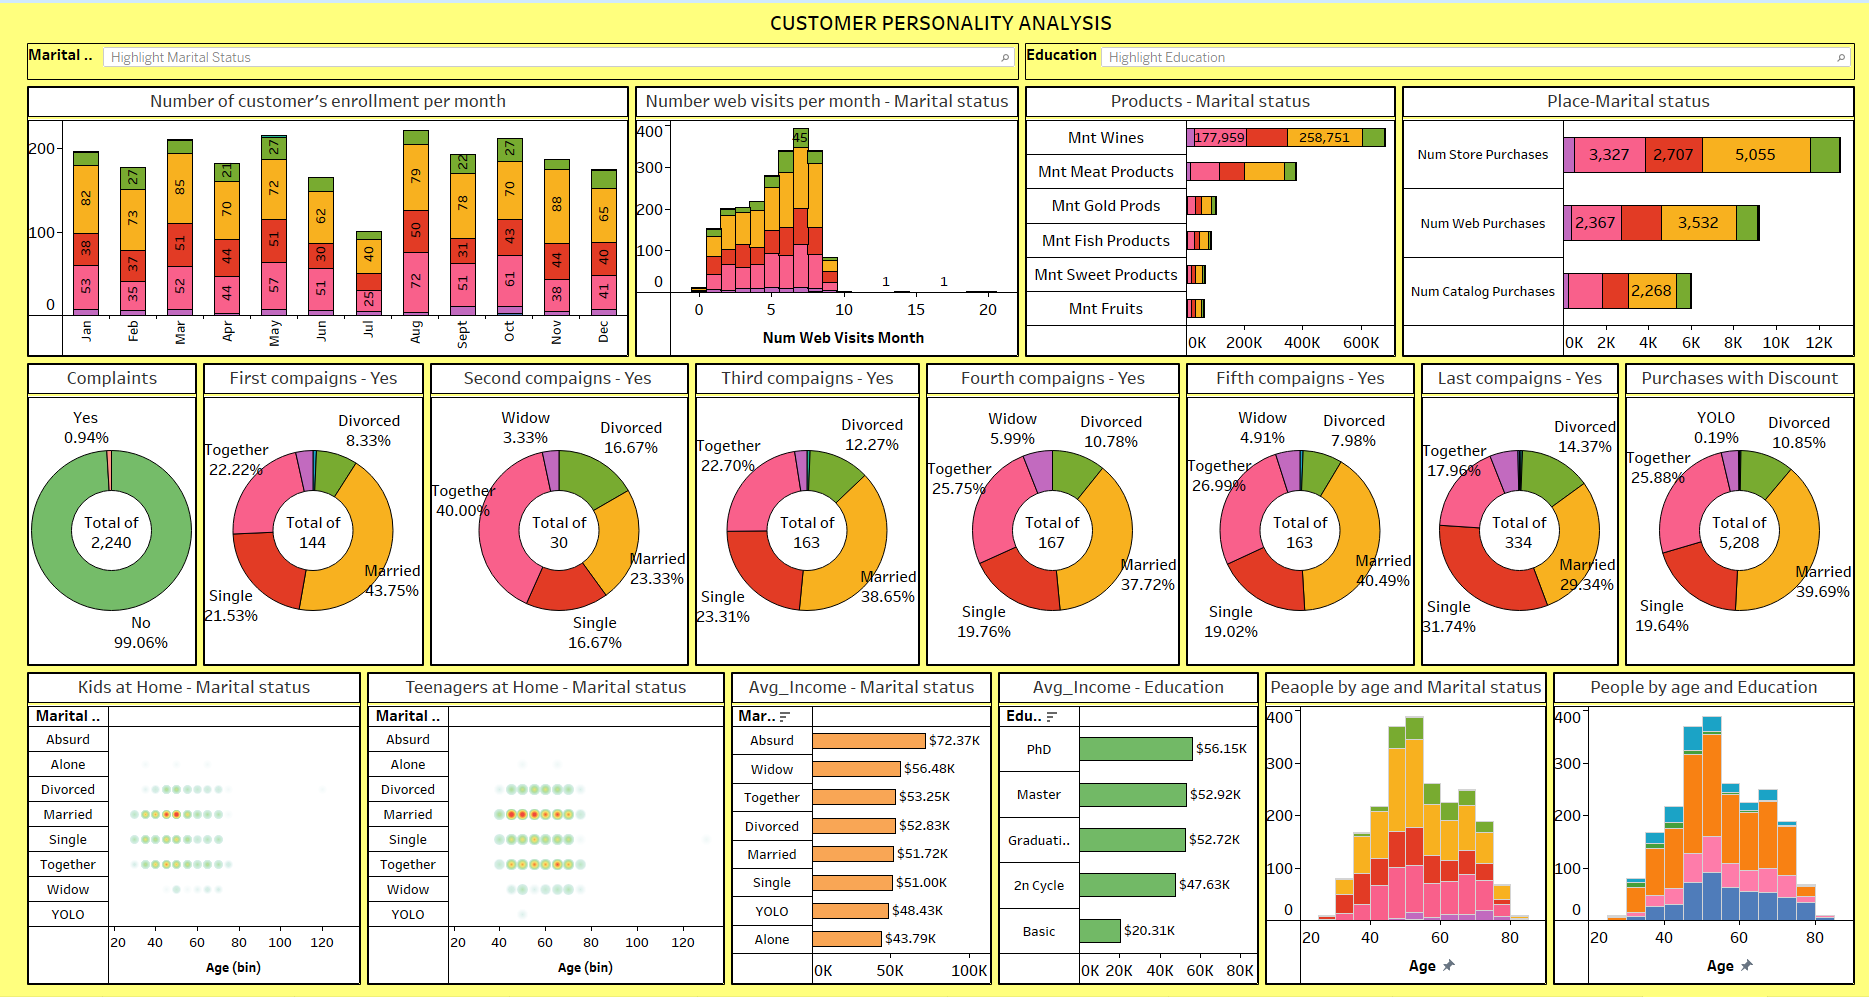

This screenshot's page, from the dashboard's own definition file:
{"tool":"tableau","page":{"name":"Dashboard 1","canvas":[1850,1000],"ordinal":0},"visuals":[{"type":"title","box":[8,8,1834,36]},{"type":"highlighter","title":"Place-Marital status","param":"[federated.0j5zsd51bv561z1bgrp7x02o5zis].[none:Marital_Status:nk]","box":[8,44,998,43.3]},{"type":"highlighter","title":"People by age and Education","param":"[federated.0j5zsd51bv561z1bgrp7x02o5zis].[none:Education:nk]","box":[1006,44,836,43.3]},{"type":"worksheet","title":"Number of customer's enrollment per month","mark":"Bar","rows":["ID"],"cols":["Dt_Customer"],"box":[8,87.3,608,277]},{"type":"worksheet","title":"Number web visits per month - Marital status","mark":"Bar","rows":["ID"],"cols":["NumWebVisitsMonth"],"box":[616,87.3,390,277]},{"type":"worksheet","title":"Products - Marital status","mark":"Bar","box":[1006,87.3,377.5,277]},{"type":"worksheet","title":"Place-Marital status","mark":"Automatic","box":[1383.5,87.3,458.5,277]},{"type":"worksheet","title":"Complaints","mark":"Pie","rows":["Calculation_913667790193766403","Calculation_913667790193766403"],"box":[8,364.4,176,308.6]},{"type":"worksheet","title":"First compaigns - Yes","mark":"Pie","rows":["Calculation_913667790193766403","Calculation_913667790193766403"],"box":[184,364.4,227,308.6]},{"type":"worksheet","title":"Second compaigns - Yes ","mark":"Pie","rows":["Calculation_913667790193766403","Calculation_913667790193766403"],"box":[411,364.4,265,308.6]},{"type":"worksheet","title":"Third compaigns - Yes","mark":"Pie","rows":["Calculation_913667790193766403","Calculation_913667790193766403"],"box":[676,364.4,231,308.6]},{"type":"worksheet","title":"Fourth compaigns - Yes","mark":"Pie","rows":["Calculation_913667790193766403","Calculation_913667790193766403"],"box":[907,364.4,260,308.6]},{"type":"worksheet","title":"Fifth compaigns - Yes","mark":"Pie","rows":["Calculation_913667790193766403","Calculation_913667790193766403"],"box":[1167,364.4,235,308.6]},{"type":"worksheet","title":"Last compaigns - Yes","mark":"Pie","rows":["Calculation_913667790193766403","Calculation_913667790193766403"],"box":[1402,364.4,204,308.6]},{"type":"worksheet","title":"Purchases with Discount","mark":"Pie","rows":["Calculation_913667790193766403","Calculation_913667790193766403"],"box":[1606,364.4,236,308.6]},{"type":"worksheet","title":"Kids at Home - Marital status","mark":"Heatmap","rows":["Marital_Status"],"cols":["Age (bin)"],"box":[8,673,340,319]},{"type":"worksheet","title":"Teenagers at Home - Marital status","mark":"Heatmap","rows":["Marital_Status"],"cols":["Age (bin)"],"box":[348,673,364,319]},{"type":"worksheet","title":"Avg_Income - Marital status","mark":"Bar","rows":["Marital_Status"],"cols":["Income"],"box":[712,673,267,319]},{"type":"worksheet","title":"Avg_Income - Education","mark":"Bar","rows":["Education"],"cols":["Income"],"box":[979,673,267,319]},{"type":"worksheet","title":"Peaople by age and Marital status","mark":"Automatic","rows":["Calculation_1136595971798118400"],"cols":["Age (bin)"],"box":[1246,673,288,319]},{"type":"worksheet","title":"People by age and Education","mark":"Automatic","rows":["Calculation_1136595971798118400"],"cols":["Age (bin)"],"box":[1534,673,308,319]}]}

Visuals, with their boxes in screenshot pixels (x1, y1, x2, y2), scaled from the page's 1850x1000 canvas onto the 1869x997 screenshot:
title: [x1=8, y1=8, x2=1861, y2=44]
"Place-Marital status" highlighter: [x1=8, y1=44, x2=1016, y2=87]
"People by age and Education" highlighter: [x1=1016, y1=44, x2=1861, y2=87]
"Number of customer's enrollment per month" worksheet (Bar marks): [x1=8, y1=87, x2=622, y2=363]
"Number web visits per month - Marital status" worksheet (Bar marks): [x1=622, y1=87, x2=1016, y2=363]
"Products - Marital status" worksheet (Bar marks): [x1=1016, y1=87, x2=1398, y2=363]
"Place-Marital status" worksheet: [x1=1398, y1=87, x2=1861, y2=363]
"Complaints" worksheet (Pie marks): [x1=8, y1=363, x2=186, y2=671]
"First compaigns - Yes" worksheet (Pie marks): [x1=186, y1=363, x2=415, y2=671]
"Second compaigns - Yes " worksheet (Pie marks): [x1=415, y1=363, x2=683, y2=671]
"Third compaigns - Yes" worksheet (Pie marks): [x1=683, y1=363, x2=916, y2=671]
"Fourth compaigns - Yes" worksheet (Pie marks): [x1=916, y1=363, x2=1179, y2=671]
"Fifth compaigns - Yes" worksheet (Pie marks): [x1=1179, y1=363, x2=1416, y2=671]
"Last compaigns - Yes" worksheet (Pie marks): [x1=1416, y1=363, x2=1622, y2=671]
"Purchases with Discount" worksheet (Pie marks): [x1=1622, y1=363, x2=1861, y2=671]
"Kids at Home - Marital status" worksheet (Heatmap marks): [x1=8, y1=671, x2=352, y2=989]
"Teenagers at Home - Marital status" worksheet (Heatmap marks): [x1=352, y1=671, x2=719, y2=989]
"Avg_Income - Marital status" worksheet (Bar marks): [x1=719, y1=671, x2=989, y2=989]
"Avg_Income - Education" worksheet (Bar marks): [x1=989, y1=671, x2=1259, y2=989]
"Peaople by age and Marital status" worksheet: [x1=1259, y1=671, x2=1550, y2=989]
"People by age and Education" worksheet: [x1=1550, y1=671, x2=1861, y2=989]
